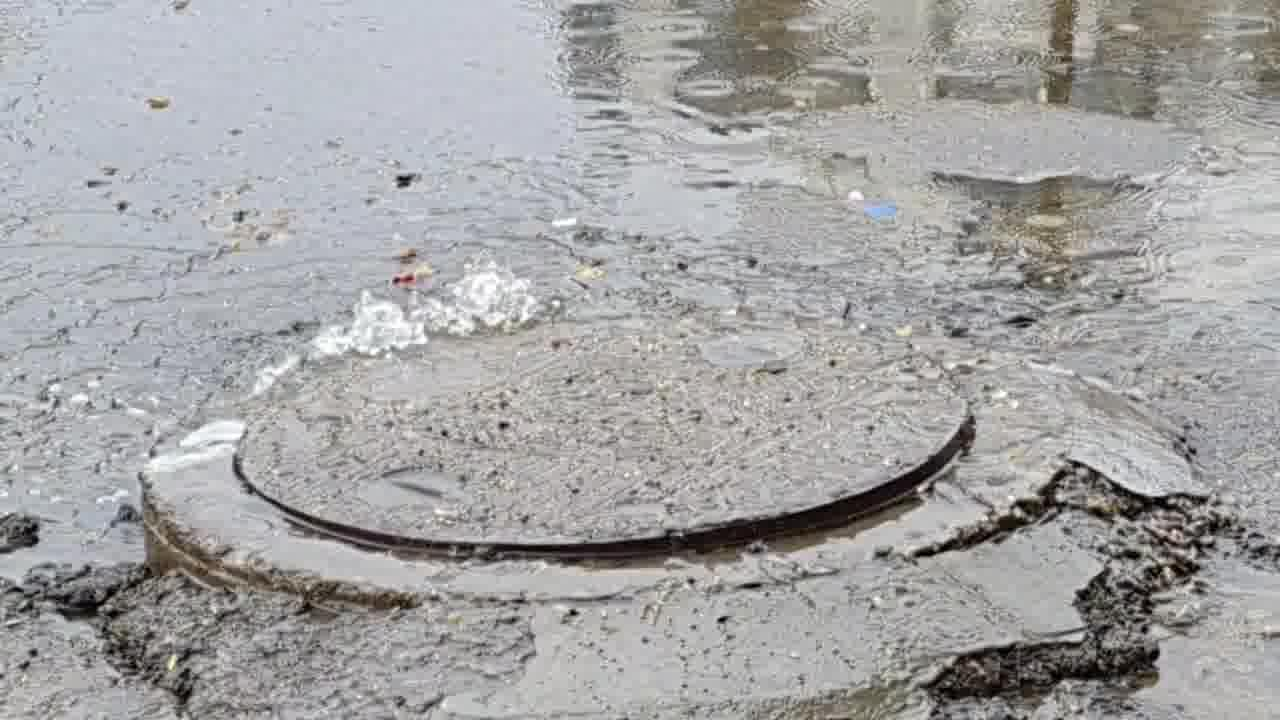drainage overflow-repair-: (0, 102, 1101, 647)
